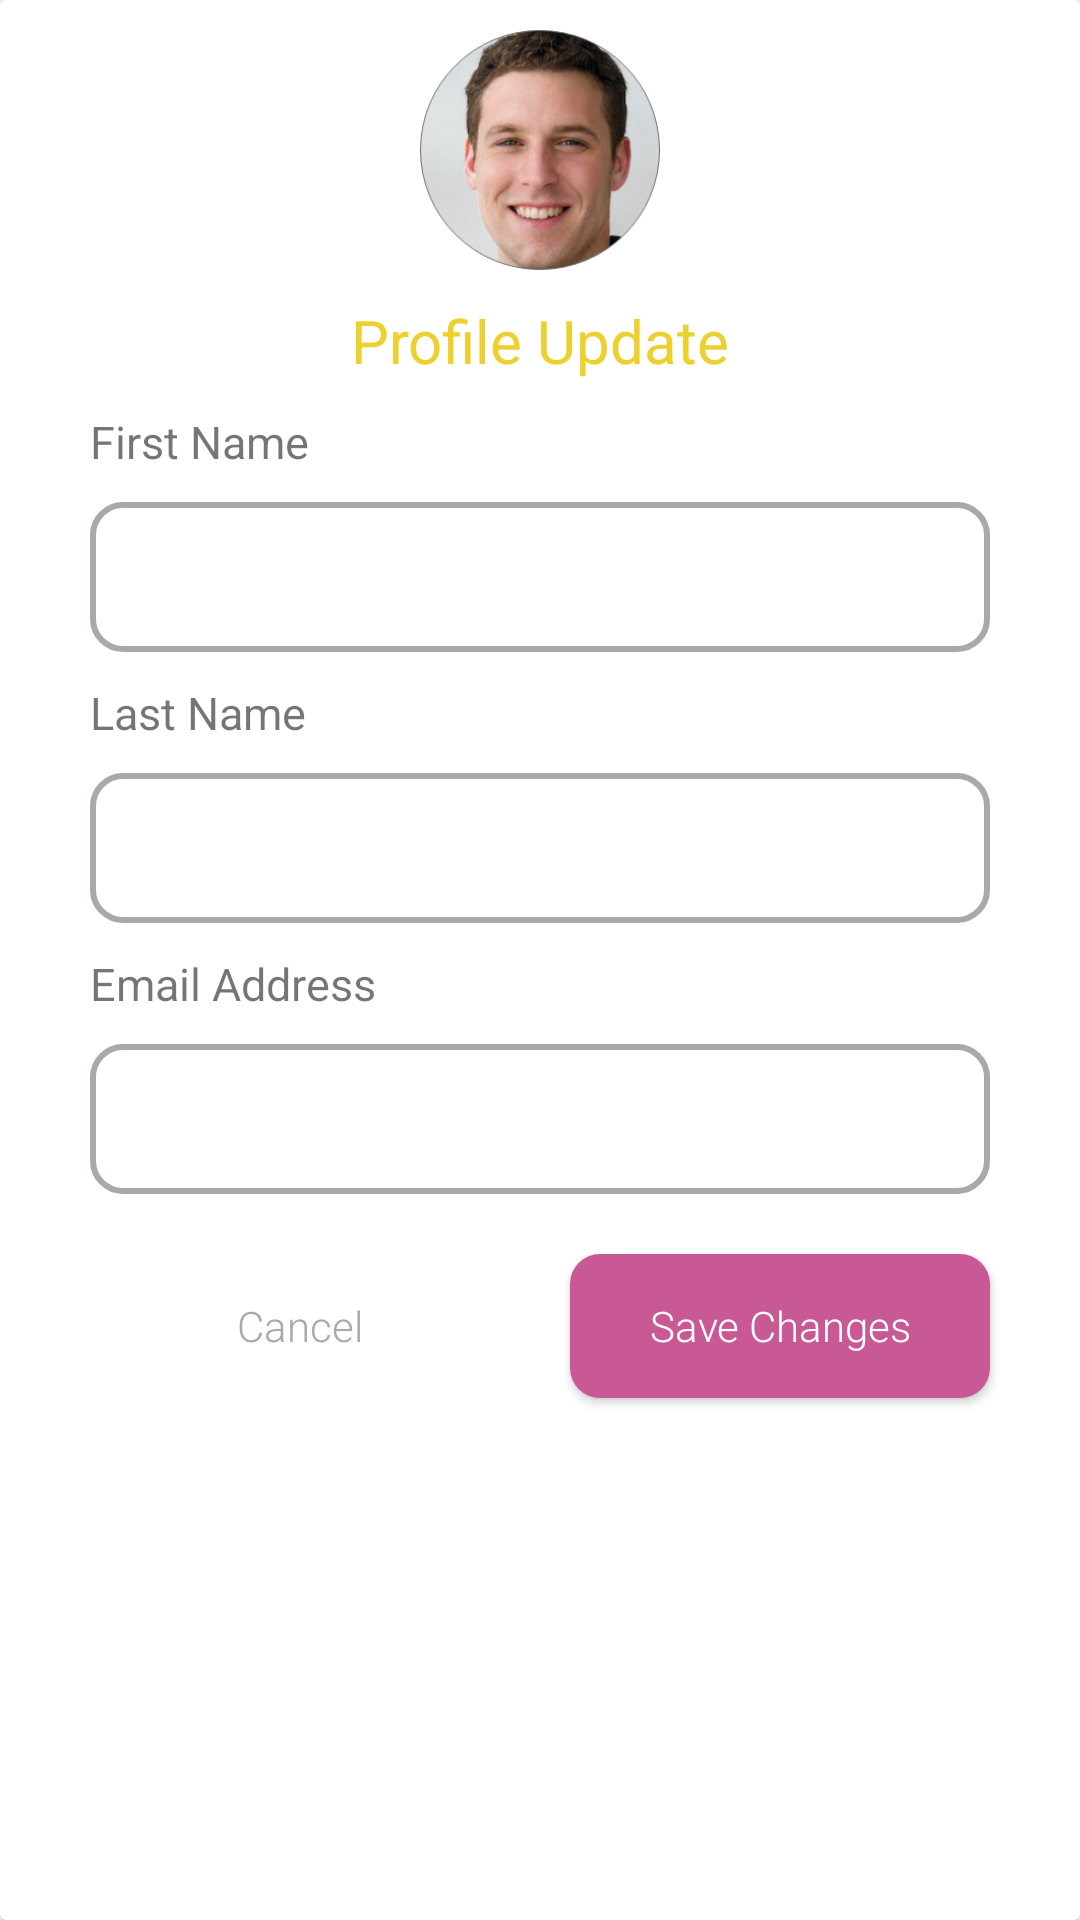

Named icons in this screenshot (1080 x 1920) and their bounding boxes, (x1, y1, x2, y2):
user: (420, 30, 660, 270)
